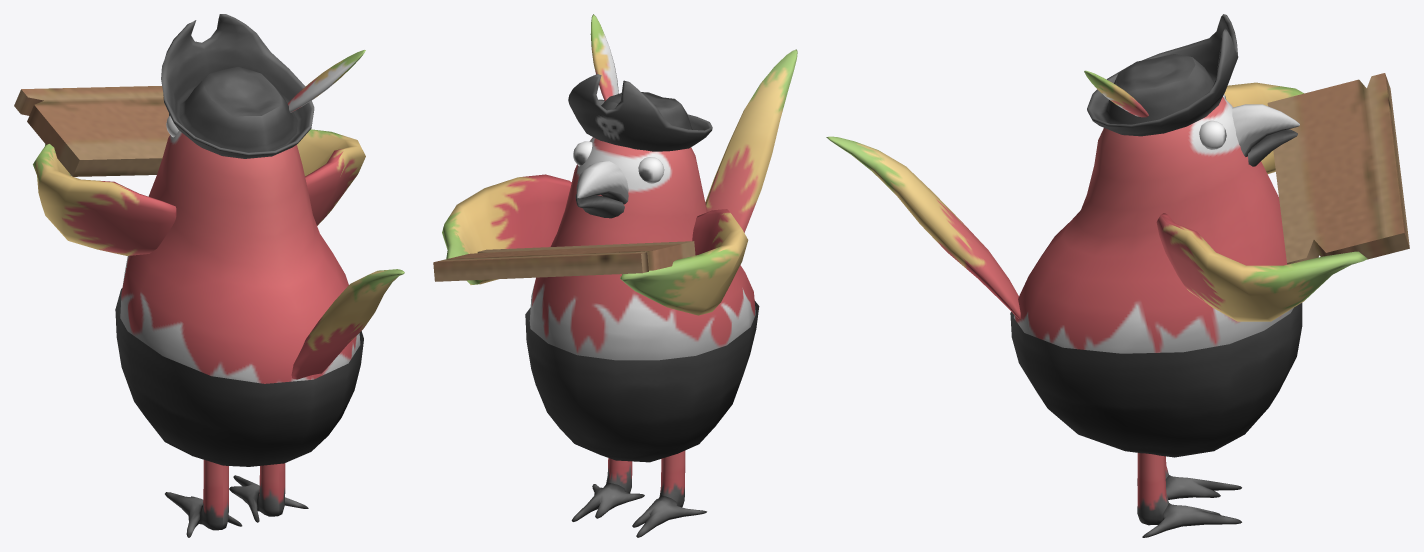
File: oumu_idle_c_04.fbx
3 views of the same model, side by side, from view 1: azimuth 30°, elevation 25°; view 2: azimuth 150°, elevation 25°; view 3: azimuth 270°, elevation 25° (orthographic). The views are drawn at different scales.
Parts seen in each view (by area): view 1: I_c_04; view 2: I_c_04; view 3: I_c_04.
Boxes of the visible parts, x1,y1,x2,y2 form: I_c_04: (14,14,404,537); I_c_04: (433,14,797,537); I_c_04: (826,14,1409,537).
Size of the model in its own units: 1.44 by 2.09 by 2.27.
Materials: 1 (1 with a texture image).
